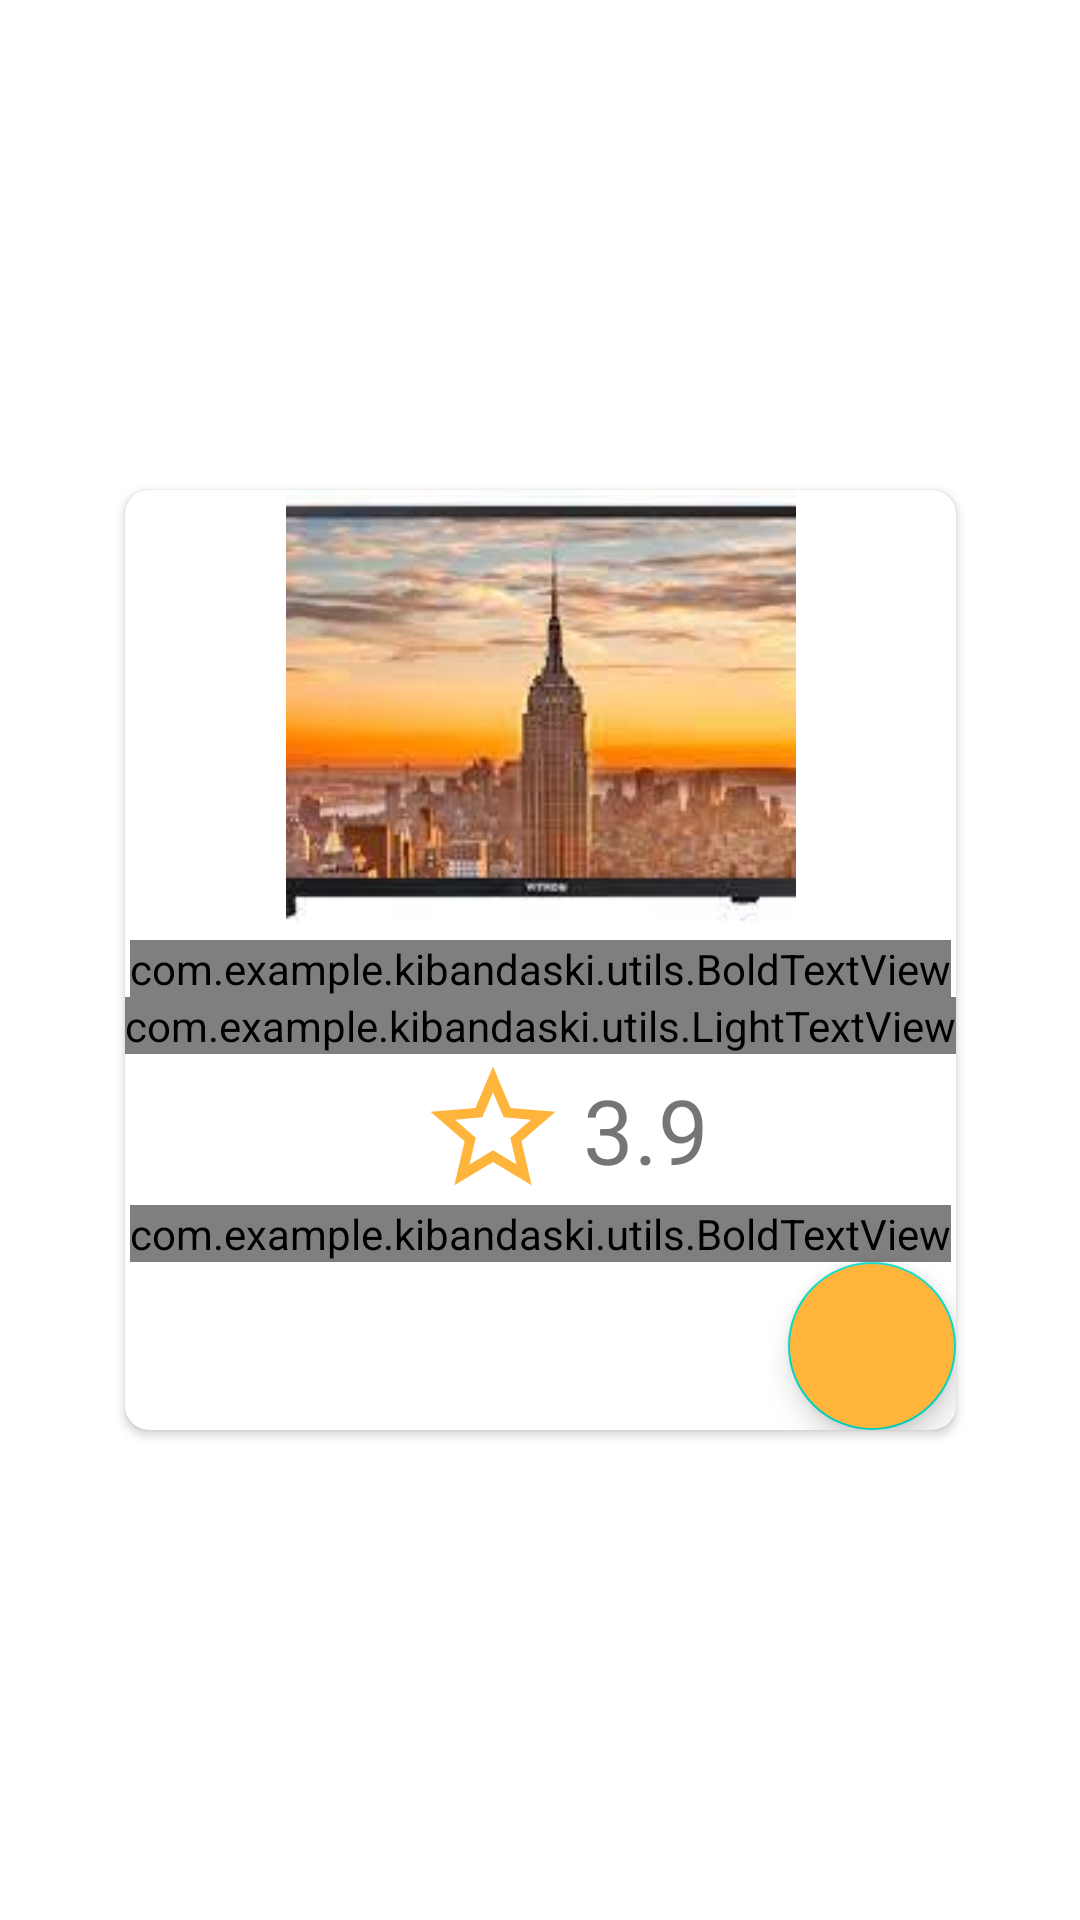

Icon bounding boxes for this 1080*1920 phone screenshot, format (x1, y1, x2, y2):
star: (431, 1067, 555, 1185)
